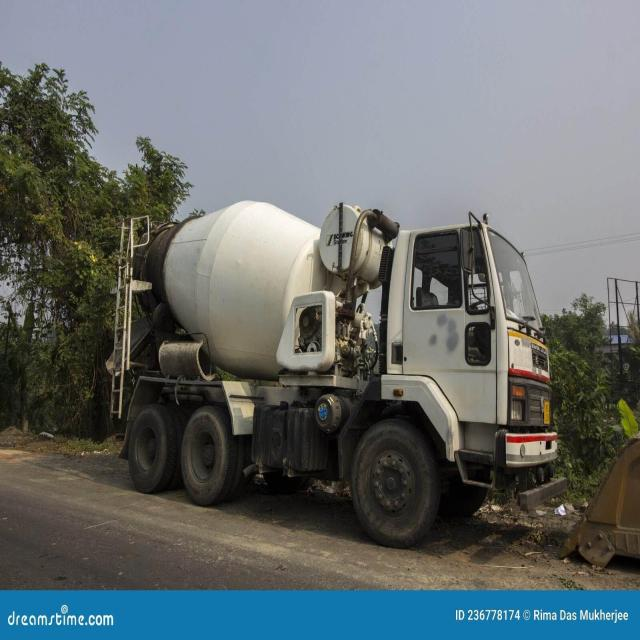truck: (108, 201, 564, 546)
